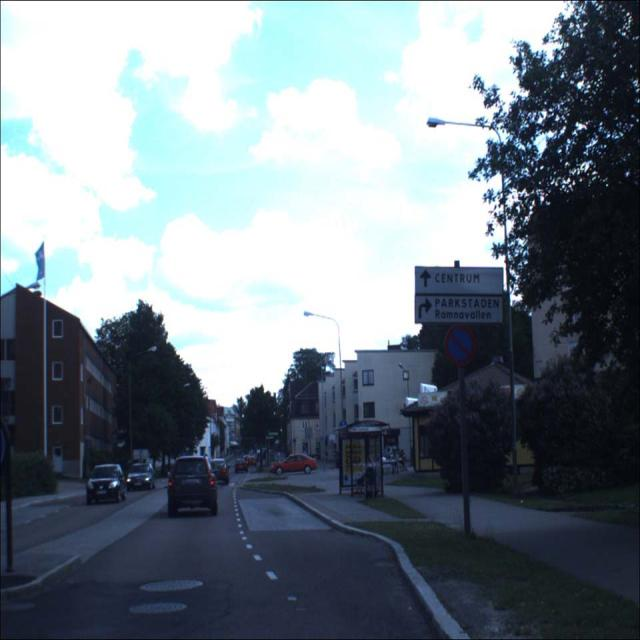parkyasak: (444, 326, 476, 369)
